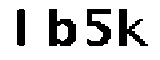5: (85, 3, 112, 52)
b: (42, 4, 77, 51)
k: (117, 9, 148, 49)
l: (7, 5, 34, 53)
